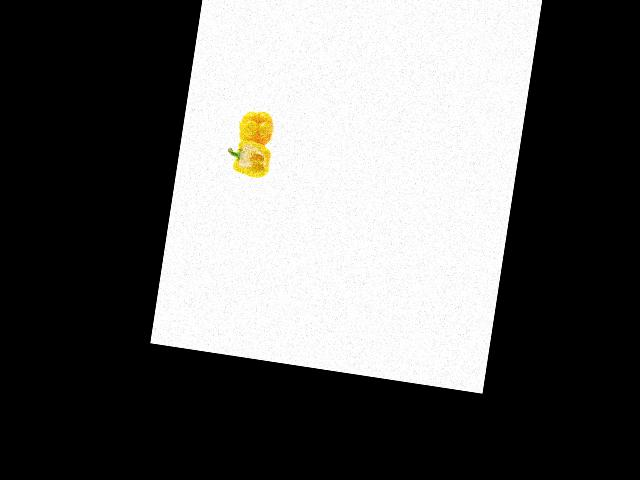bell_pepper: (223, 131, 281, 182)
